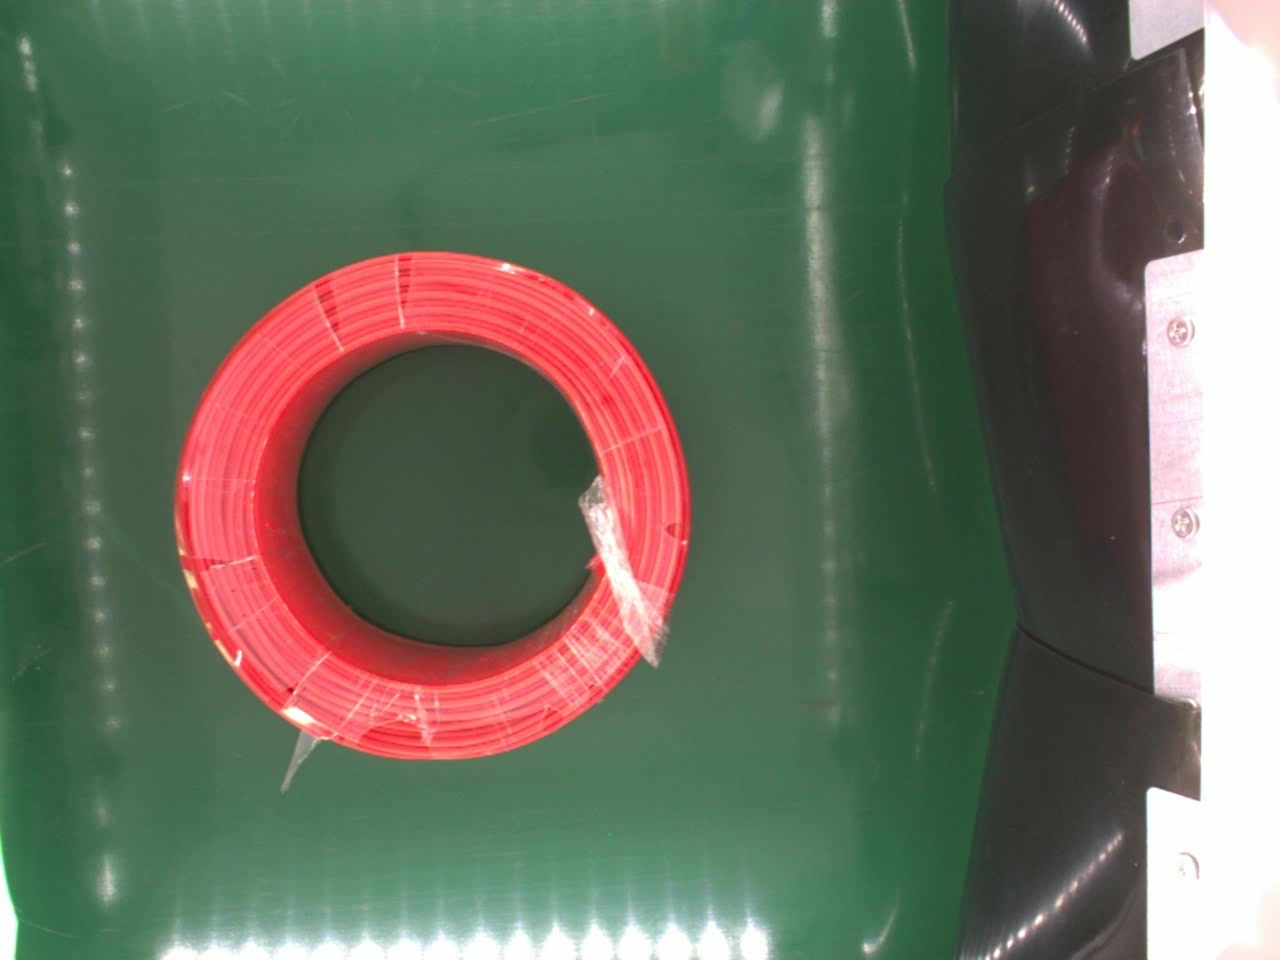red: (172, 247, 695, 763)
